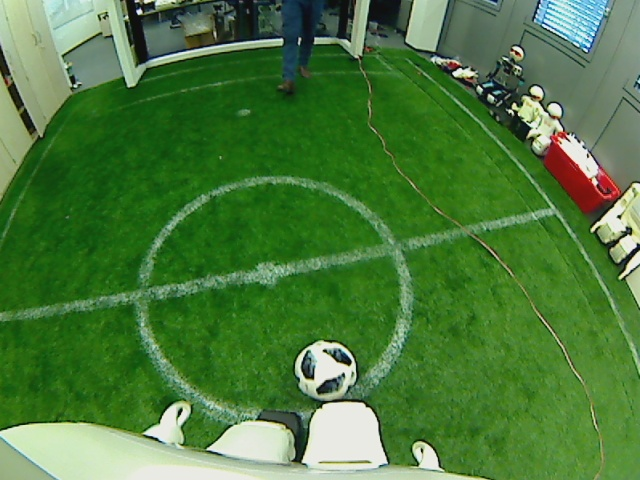ball: (291, 339, 359, 401)
